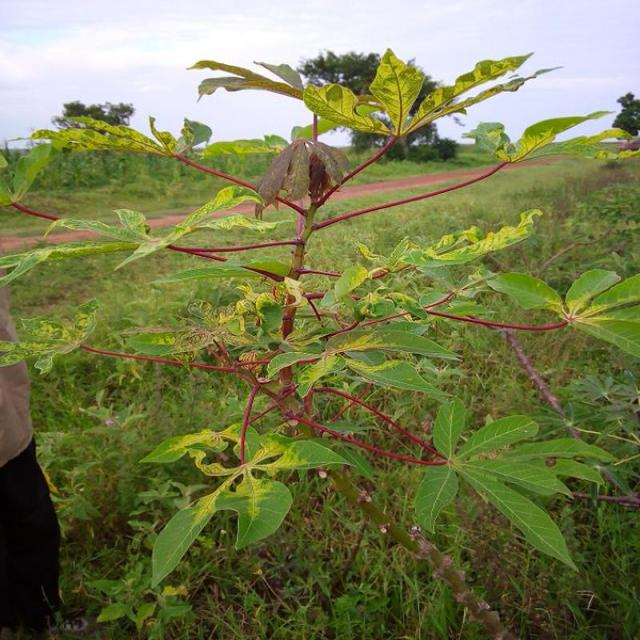cassava leaf: (3, 46, 636, 592), (370, 46, 426, 135)
